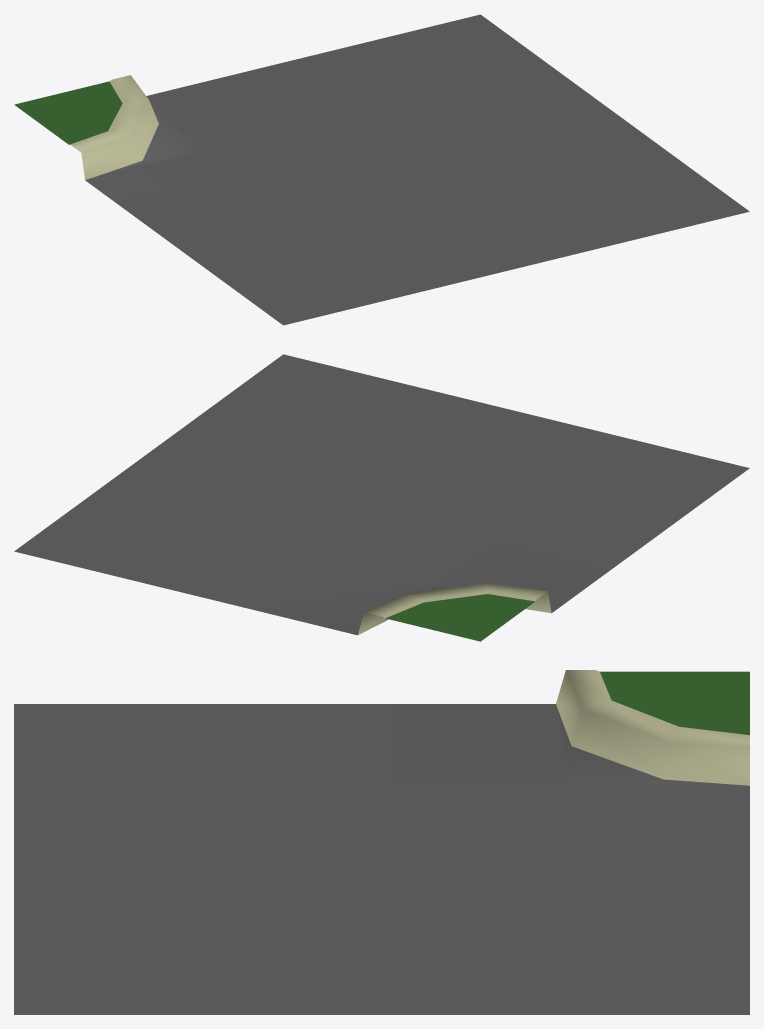
The model's file is RoadCurbTurn.fbx.
The picture shows the model from 3 angles, top to bottom: view 1: azimuth 30°, elevation 25°; view 2: azimuth 150°, elevation 25°; view 3: azimuth 270°, elevation 25°; orthographic projection. The views are drawn at different scales.
Visible parts, largest first — view 1: RoadCenter1; view 2: RoadCenter1; view 3: RoadCenter1.
Boxes of the visible parts, left/top/right/bottom form: RoadCenter1: left=14, top=14, right=749, bottom=325; RoadCenter1: left=14, top=354, right=749, bottom=641; RoadCenter1: left=14, top=670, right=749, bottom=1014.
Size of the model in its own units: 501 by 25.46 by 501.
